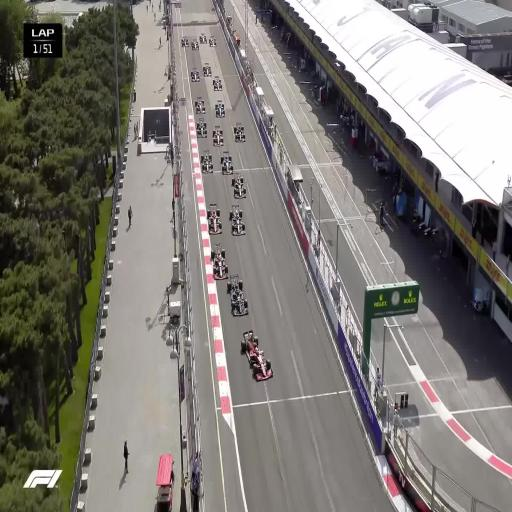f1_car: (241, 329, 272, 380), (227, 274, 248, 316), (211, 244, 227, 278), (229, 205, 245, 235), (207, 203, 222, 233), (231, 173, 246, 198), (200, 149, 213, 173), (220, 151, 233, 174), (234, 122, 245, 141), (196, 118, 207, 137), (213, 126, 223, 146), (195, 96, 205, 114), (215, 100, 225, 117), (212, 76, 222, 91), (203, 62, 211, 76), (191, 68, 199, 82), (199, 33, 207, 43), (181, 37, 189, 47), (209, 37, 216, 47), (192, 39, 198, 49)
